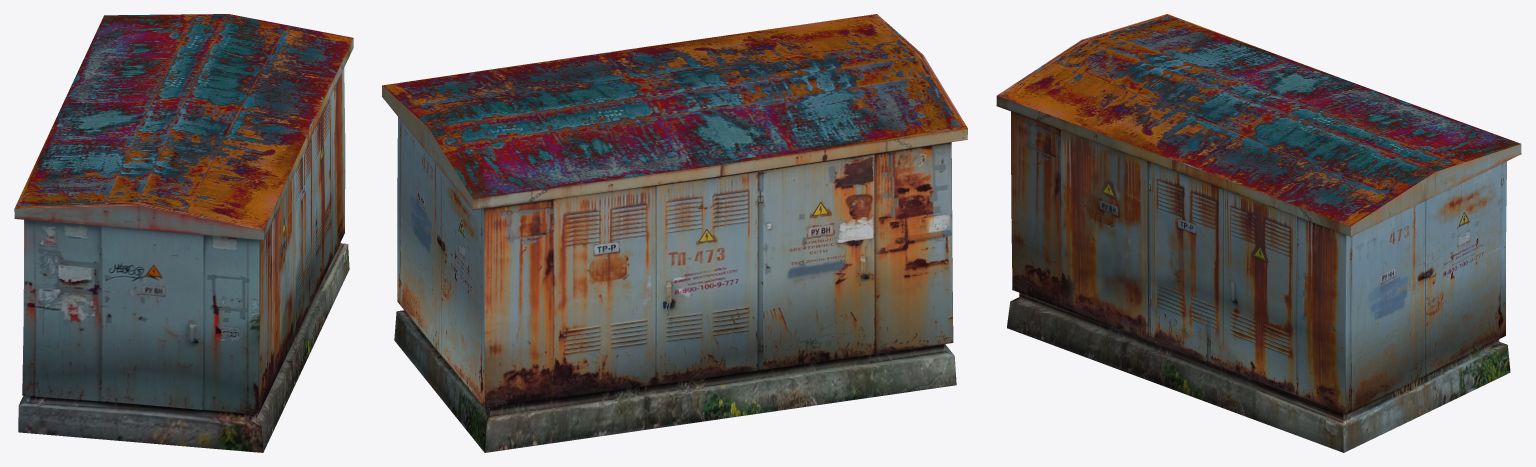
The model's file is rusty_electric_box.glb.
The picture shows the model from 3 angles, left to right: view 1: azimuth 30°, elevation 25°; view 2: azimuth 150°, elevation 25°; view 3: azimuth 270°, elevation 25°; orthographic projection. The views are drawn at different scales.
Visible parts, largest first — view 1: Box001; view 2: Box001; view 3: Box001.
Part boxes in pixels (<box>): Box001: <box>14,14,353,452</box>; Box001: <box>382,14,967,452</box>; Box001: <box>996,14,1521,452</box>.
Bounding box in the file's own units: 4.91 × 2.64 × 5.13.
Materials: 1 (1 with a texture image).
